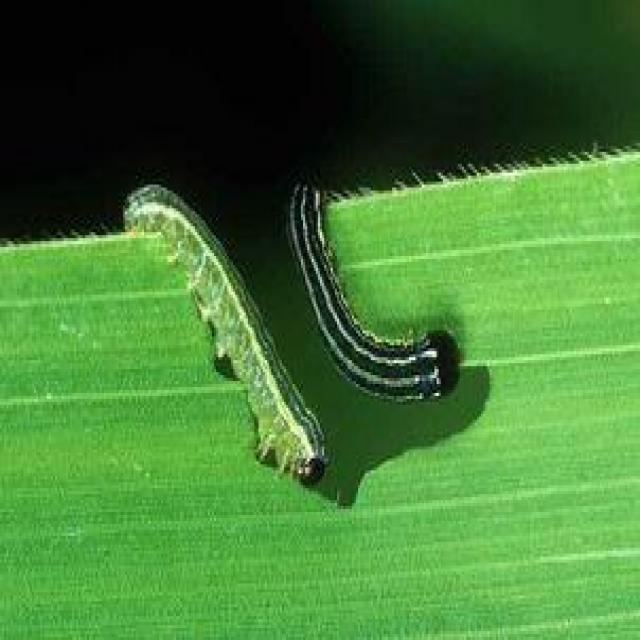BeetArmyWorm-Larva-: (110, 176, 330, 488), (281, 173, 466, 405)
